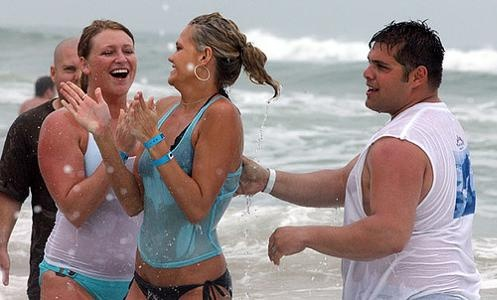person without safety: (325, 22, 475, 300), (136, 8, 245, 300), (32, 15, 149, 237)
